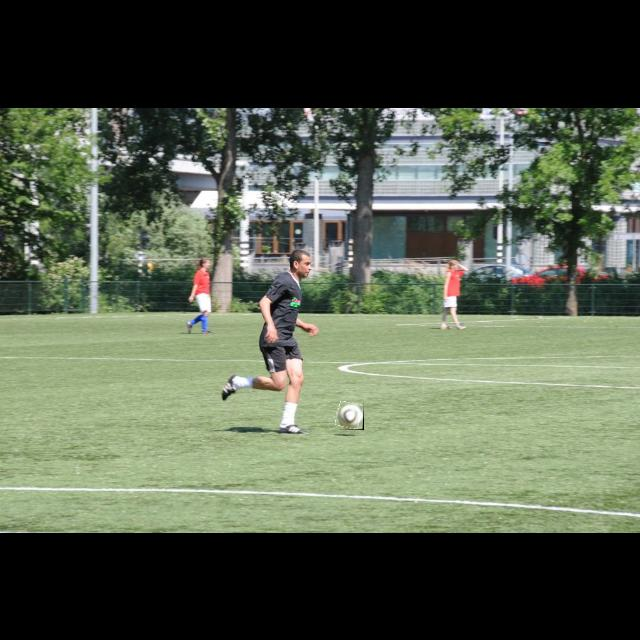Football: (336, 402, 364, 430)
